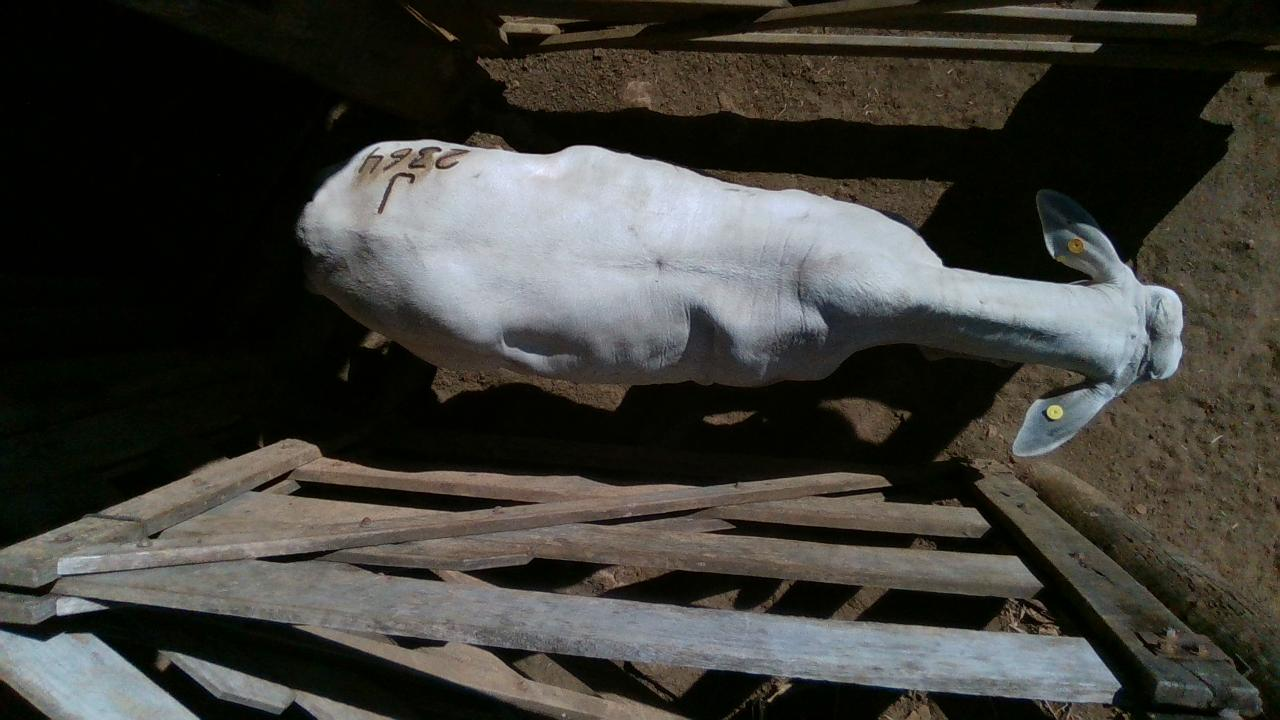cattle: (293, 135, 1186, 458)
